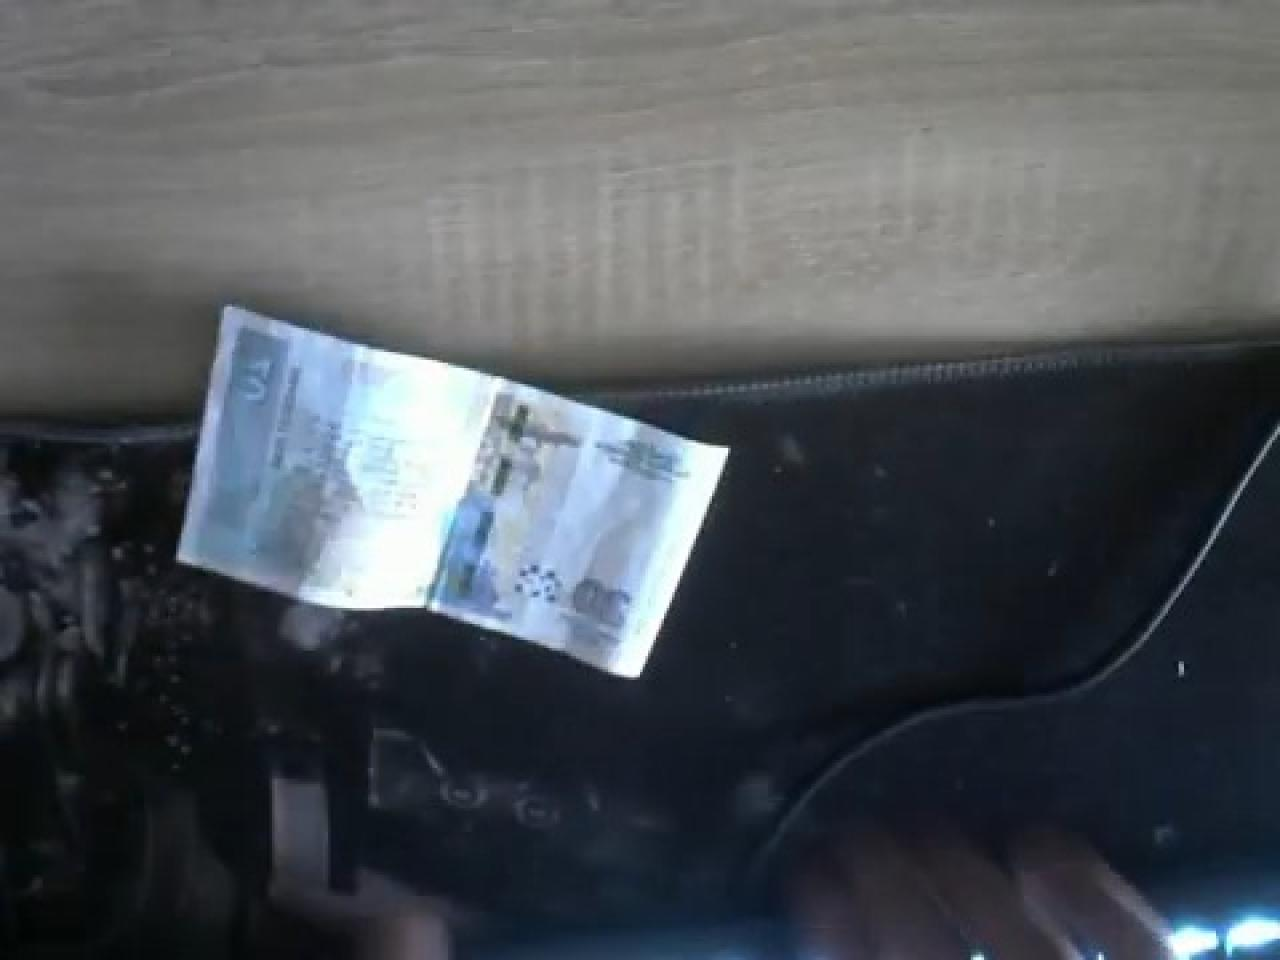20leva: (171, 304, 733, 683)
